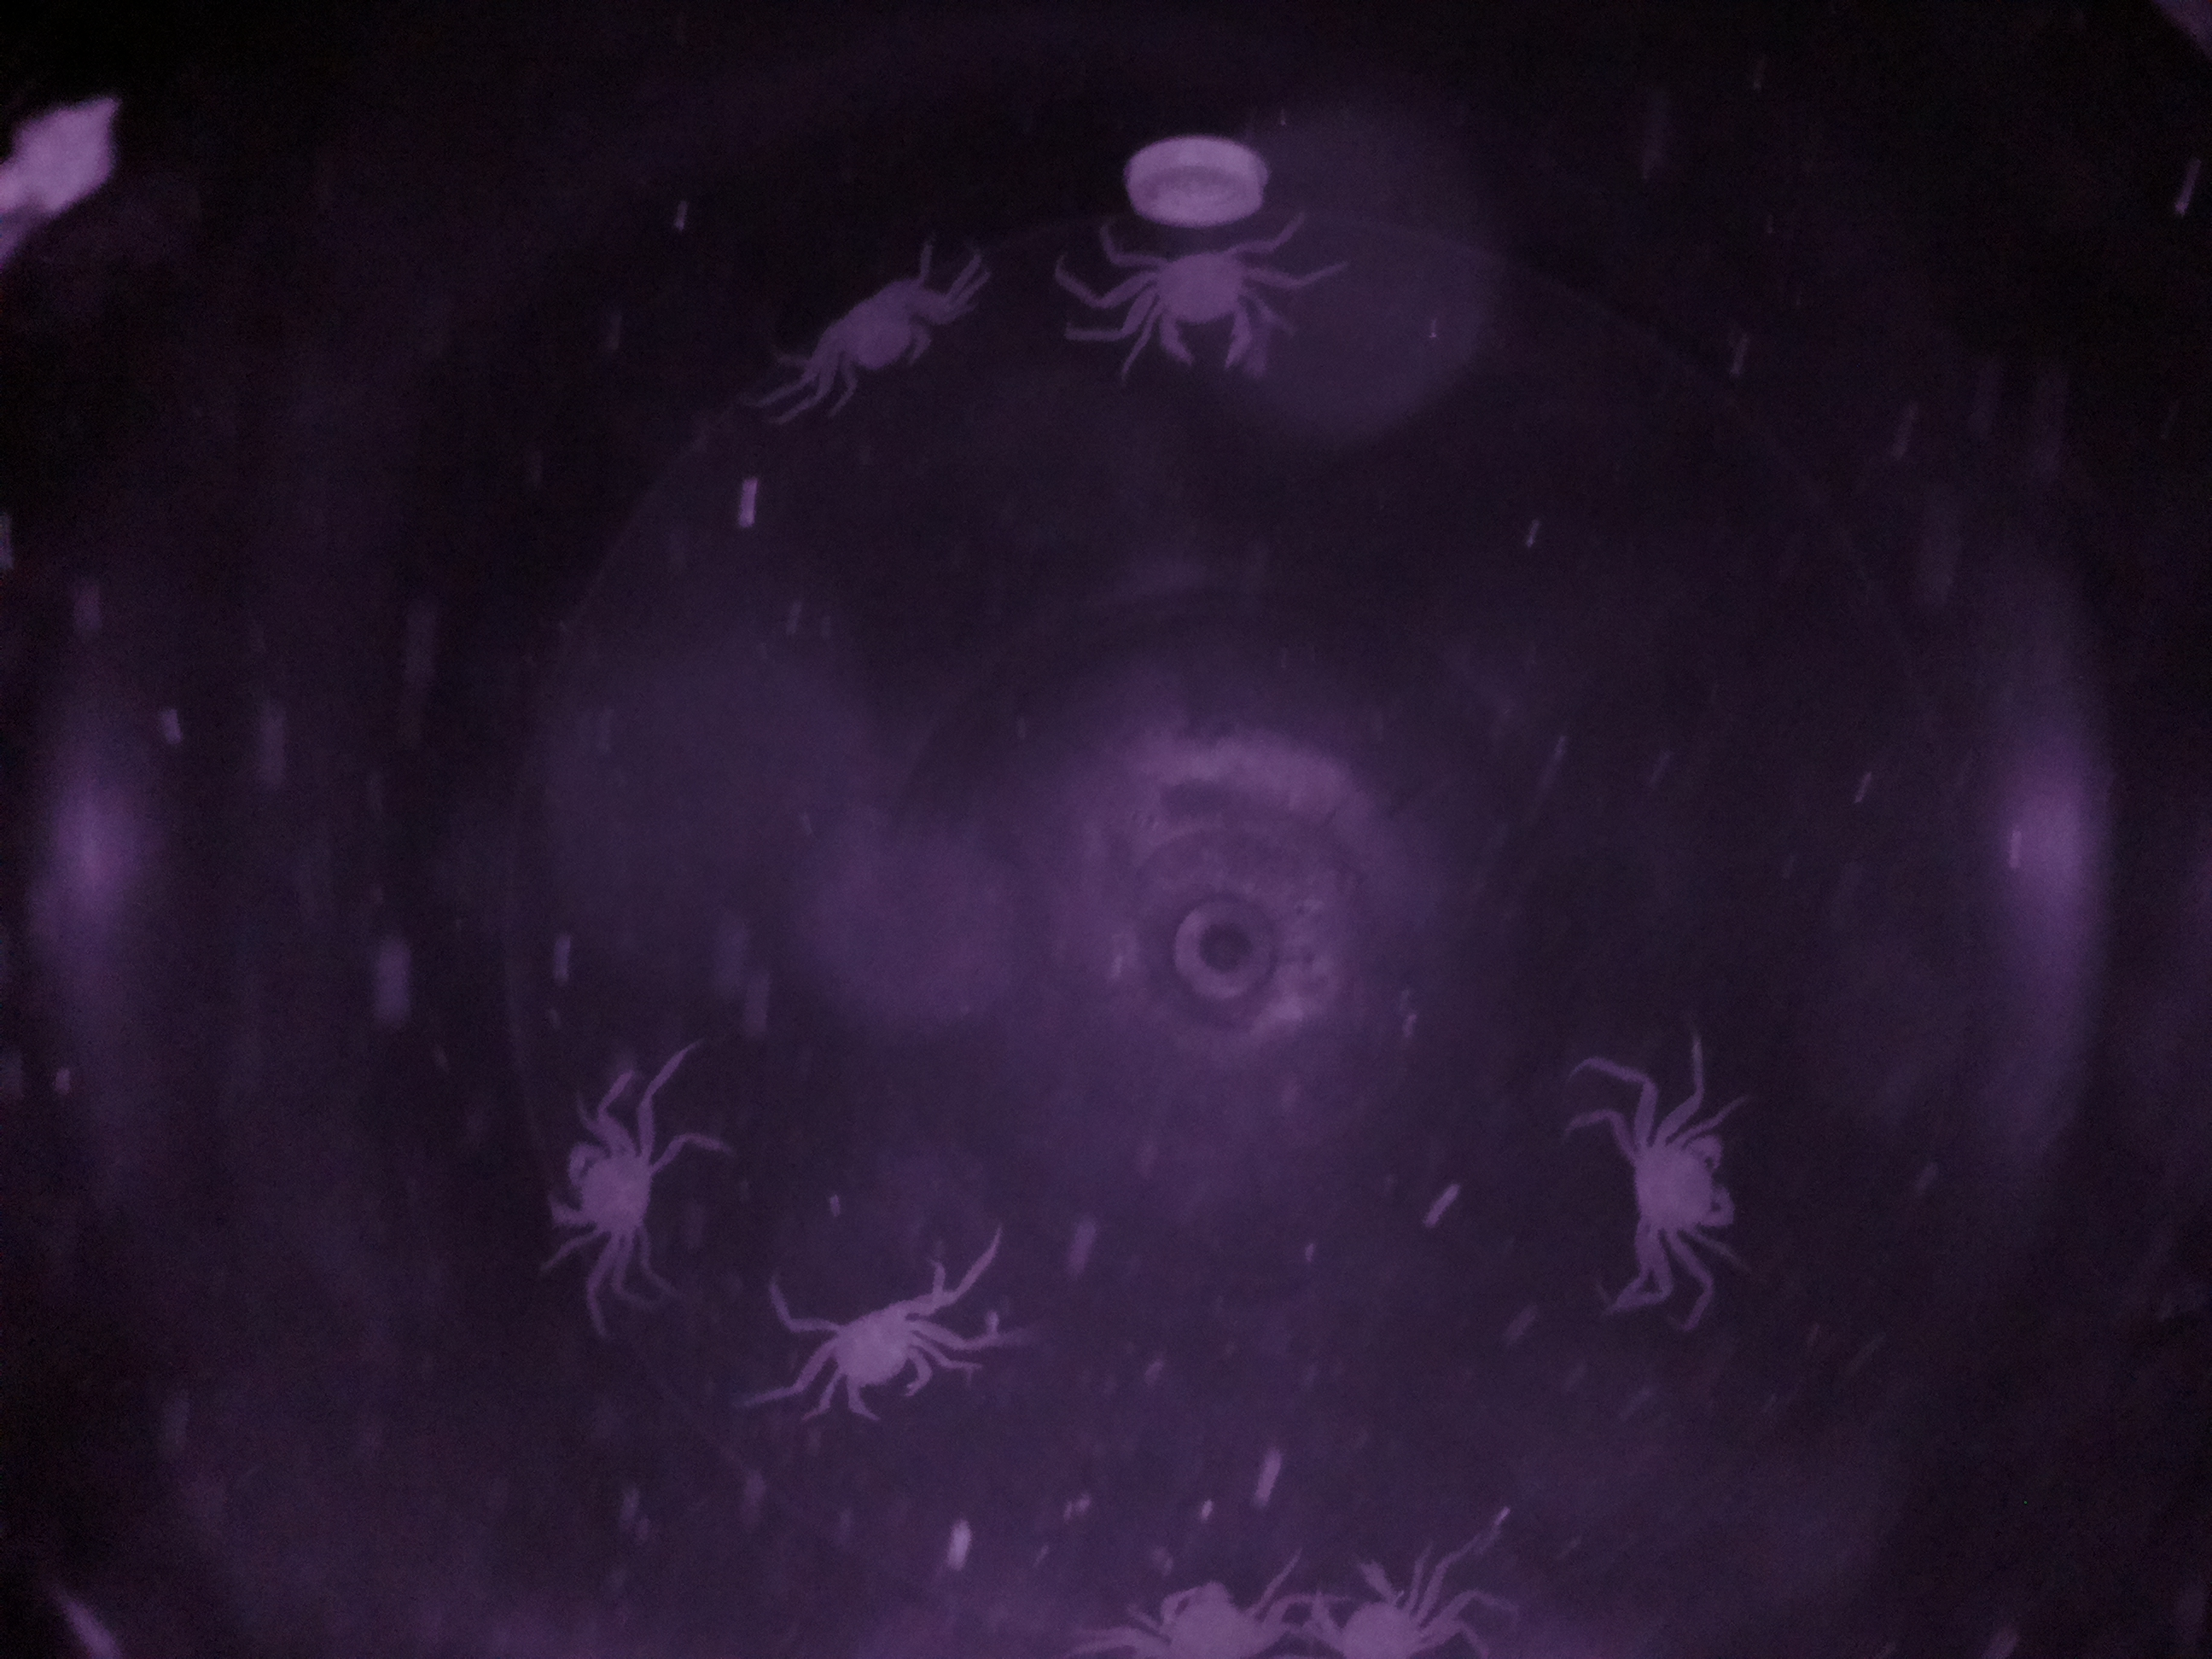Crab: (1057, 220, 1318, 383), (761, 242, 989, 408), (763, 1274, 984, 1438), (521, 1077, 695, 1281), (1608, 1089, 1745, 1272)
